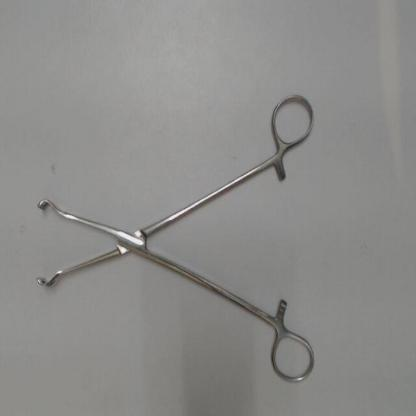8 Babcock Tissue Forceps: (28, 84, 325, 390)
